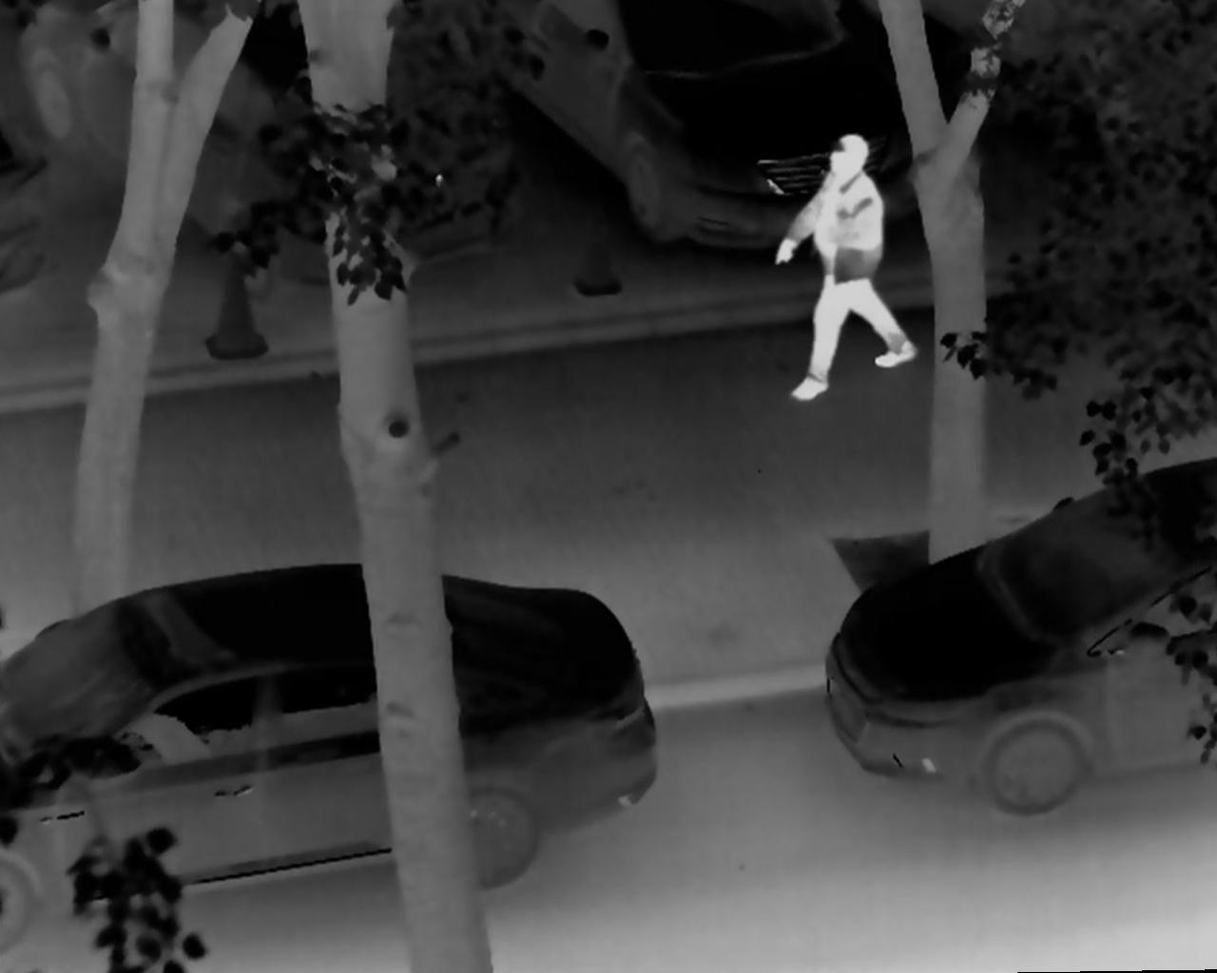person: (770, 128, 918, 401)
